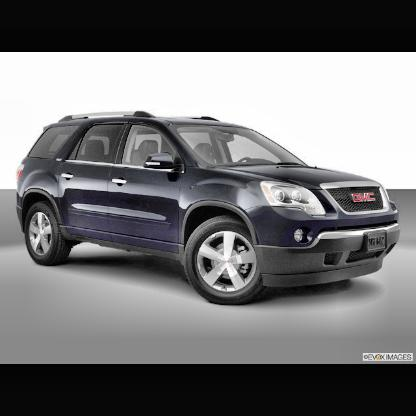GMC Acadia SUV 2012: (14, 113, 402, 307)
